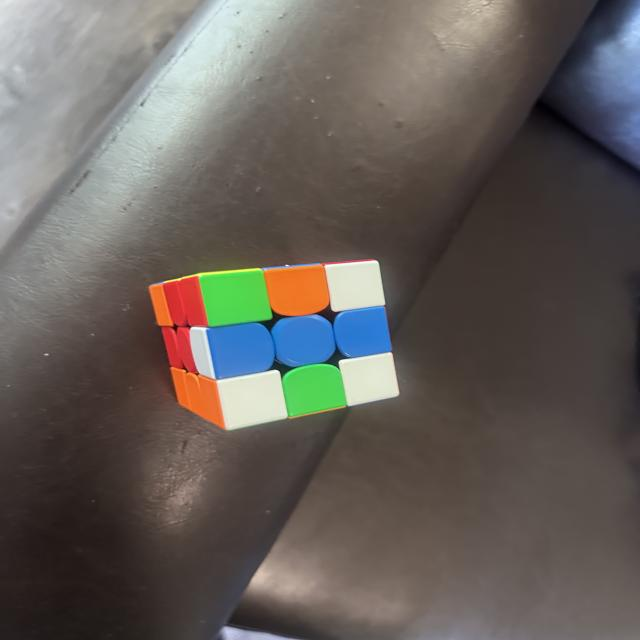sticker: (192, 321, 274, 381), (192, 268, 272, 328), (214, 369, 288, 430), (262, 263, 332, 318), (269, 313, 336, 369), (281, 363, 347, 419), (321, 258, 387, 314), (336, 352, 401, 407), (332, 306, 392, 360), (180, 369, 222, 428), (176, 274, 208, 328), (161, 278, 190, 328), (179, 370, 205, 418), (174, 325, 198, 375), (148, 281, 174, 327), (162, 326, 184, 372), (170, 366, 192, 412)
